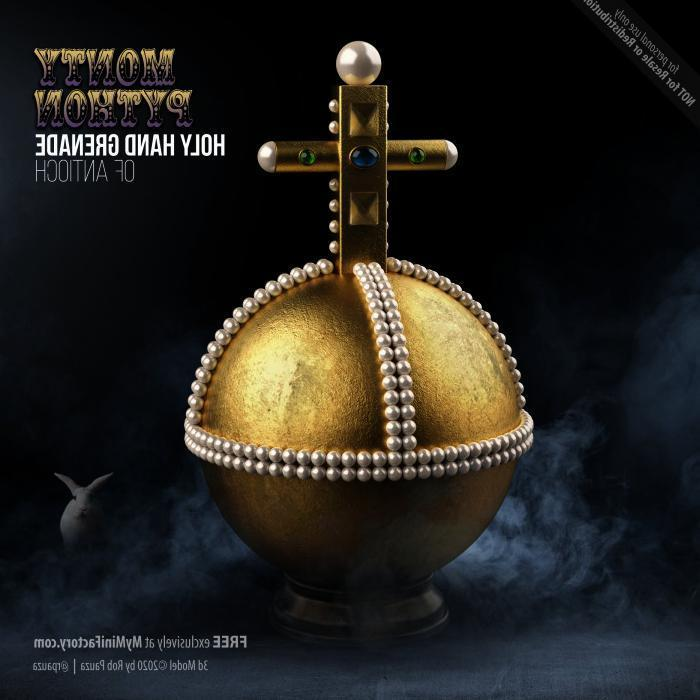Grenade: (183, 38, 533, 643)
